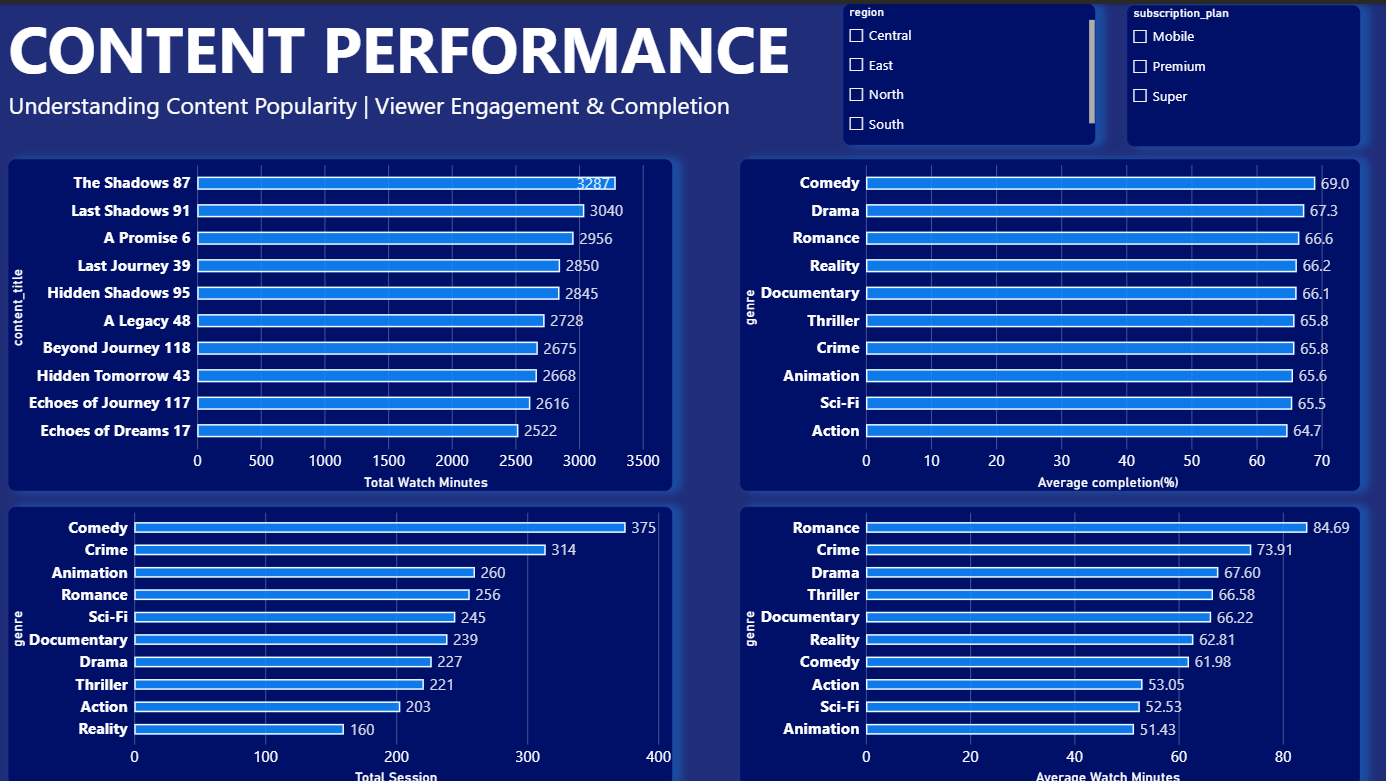

What the dashboard file says about the page in this screenshot:
{"tool":"powerbi","page":{"name":"Content Performance","canvas":[1920,1080],"ordinal":1},"visuals":[{"type":"textbox","box":[11,0,1103.8,194.9],"z":0},{"type":"clusteredBarChart","fields":{"Category":["Content_Catalogue.content_title"],"Y":["Viewing_Sessions.Total Watch Minutes"]},"box":[11,214.6,917.6,457.7],"z":1000},{"type":"clusteredBarChart","fields":{"Category":["Content_Catalogue.genre"],"Y":["Viewing_Sessions.Total Session"]},"box":[11,694.2,917.6,385.4],"z":2000},{"type":"clusteredBarChart","fields":{"Category":["Content_Catalogue.genre"],"Y":["Viewing_Sessions.Average Completion"]},"box":[1022.8,214.6,856.3,457.7],"z":3000},{"type":"clusteredBarChart","fields":{"Category":["Content_Catalogue.genre"],"Y":["Viewing_Sessions.Average Watch Minutes"]},"box":[1022.8,694.2,856.3,385.4],"z":4000},{"type":"slicer","fields":{"Values":["Customers.region"]},"box":[1165.1,0,348.2,194.9],"z":5000},{"type":"slicer","fields":{"Values":["Customers.subscription_plan"]},"box":[1557.1,2.2,321.9,194.9],"z":6000}]}

Visuals, with their boxes in screenshot pixels (x1, y1, x2, y2), scaled from the page's 1920x1080 canvas onto the 1386x781 screenshot:
textbox: 8,0,805,141
clusteredBarChart - Content_Catalogue.content_title x Viewing_Sessions.Total Watch Minutes: 8,155,670,486
clusteredBarChart - Content_Catalogue.genre x Viewing_Sessions.Total Session: 8,502,670,780
clusteredBarChart - Content_Catalogue.genre x Viewing_Sessions.Average Completion: 738,155,1356,486
clusteredBarChart - Content_Catalogue.genre x Viewing_Sessions.Average Watch Minutes: 738,502,1356,780
slicer - Customers.region: 841,0,1092,141
slicer - Customers.subscription_plan: 1124,2,1356,143
